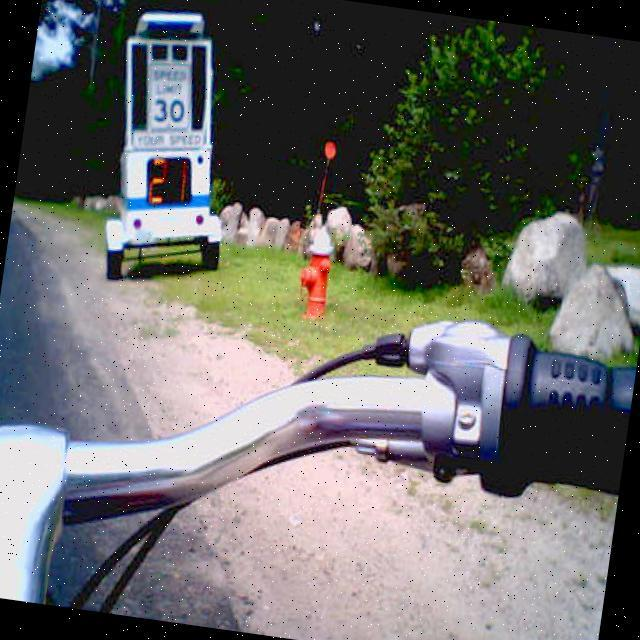fire_hydrant: (294, 221, 341, 320)
